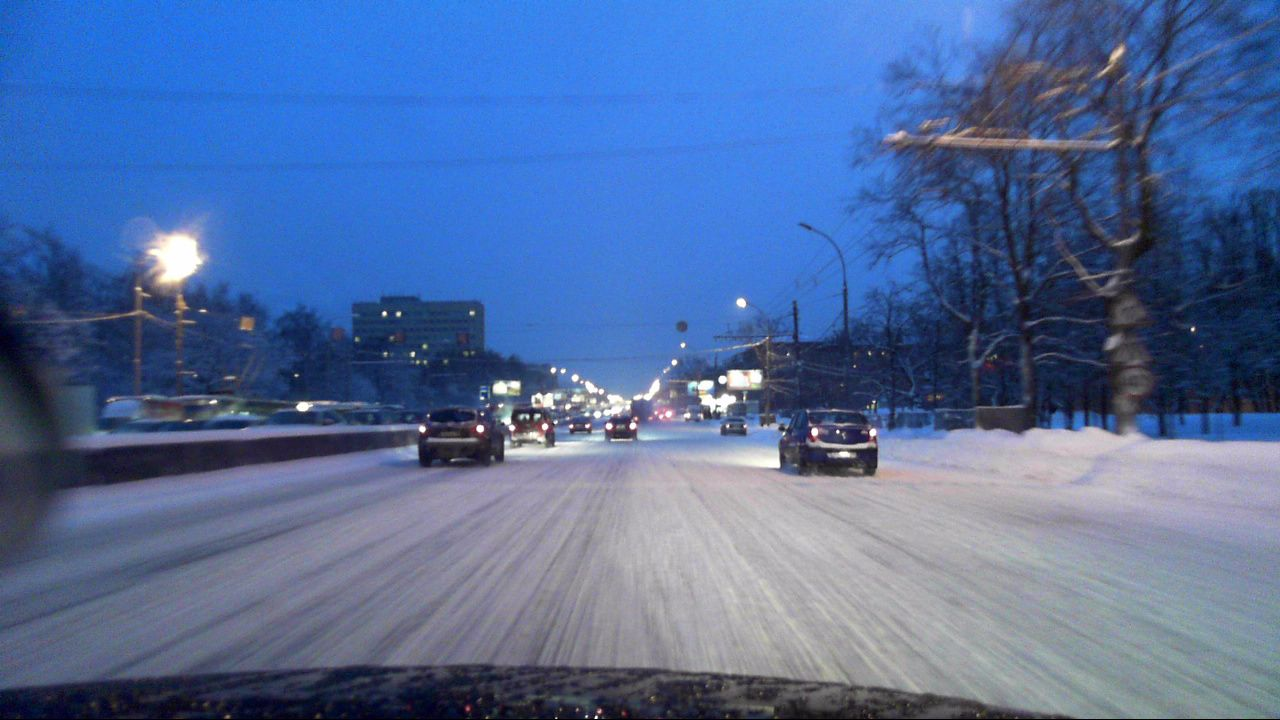speed_warning_40: (1111, 367, 1154, 394)
